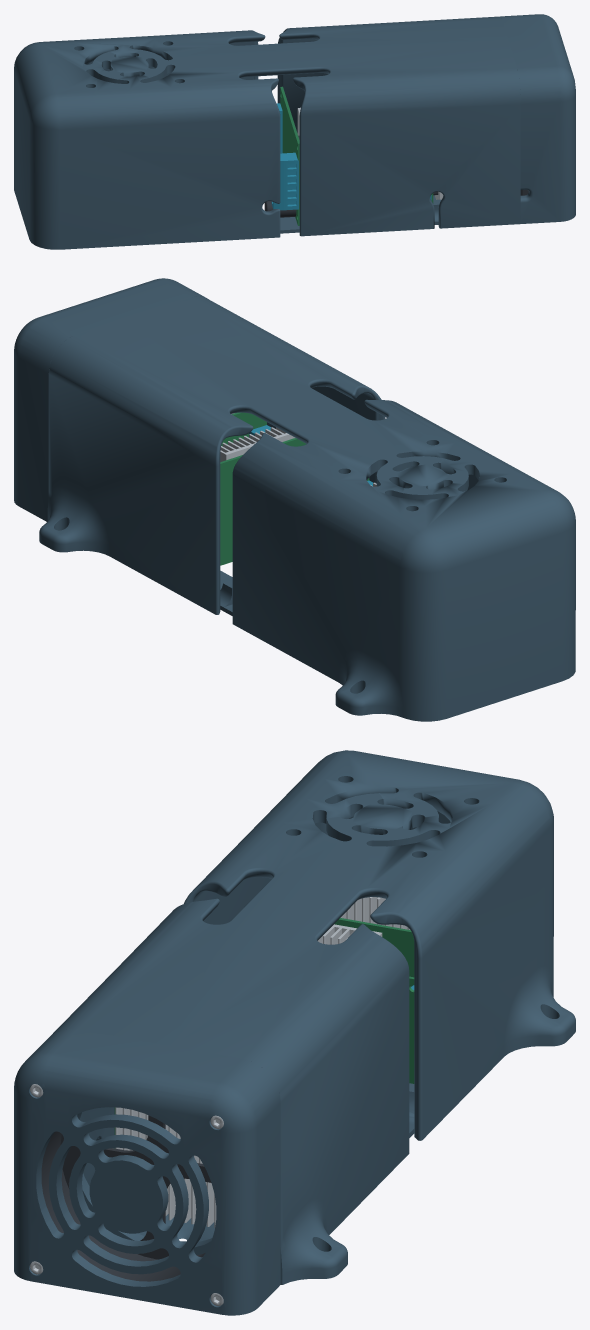
The model's file is controller_LOD0.fbx.
The picture shows the model from 3 angles, top to bottom: view 1: azimuth 30°, elevation 25°; view 2: azimuth 150°, elevation 25°; view 3: azimuth 270°, elevation 25°; orthographic projection. The views are drawn at different scales.
Parts seen in each view (by area): view 1: MM_moveo_box_c_0a0ea85998, MM_moveo_fan_module_aee2a55970, MM_moveo_terminal_1eb19026d7, MM_moveo_pcb_tb6560_ffd646f1f7, MM_moveo_suport_drivers_e_5260d430d3; view 2: MM_moveo_box_c_0a0ea85998, MM_moveo_fan_module_aee2a55970, MM_moveo_pcb_tb6560_e1ce6a316e, MM_moveo_sink_99f1e16e98; view 3: MM_moveo_box_c_0a0ea85998, MM_moveo_fan_module_aee2a55970, MM_moveo_fan_21907032aa, MM_moveo_sink_bfd3d5ddf6, MM_moveo_pcb_tb6560_5d079916b3, MM_moveo_suport_drivers_e_5260d430d3, MM_moveo_sink_97ec415627.
Boxes of the visible parts, x1,y1,x2,y2 form: MM_moveo_box_c_0a0ea85998: (14,16,520,249); MM_moveo_fan_module_aee2a55970: (500,14,575,223); MM_moveo_terminal_1eb19026d7: (271,152,298,210); MM_moveo_pcb_tb6560_ffd646f1f7: (280,86,299,225); MM_moveo_suport_drivers_e_5260d430d3: (280,195,441,233); MM_moveo_box_c_0a0ea85998: (39,296,575,721); MM_moveo_fan_module_aee2a55970: (14,278,207,521); MM_moveo_pcb_tb6560_e1ce6a316e: (220,438,305,565); MM_moveo_sink_99f1e16e98: (220,427,295,461); MM_moveo_box_c_0a0ea85998: (52,750,575,1284); MM_moveo_fan_module_aee2a55970: (14,1029,280,1315); MM_moveo_fan_21907032aa: (41,1115,211,1281); MM_moveo_sink_bfd3d5ddf6: (115,1107,216,1227); MM_moveo_pcb_tb6560_5d079916b3: (334,918,414,986); MM_moveo_suport_drivers_e_5260d430d3: (138,1083,414,1242); MM_moveo_sink_97ec415627: (340,897,409,929).
Bounding box in the file's own units: 0.3091 × 0.088 × 0.2042.
